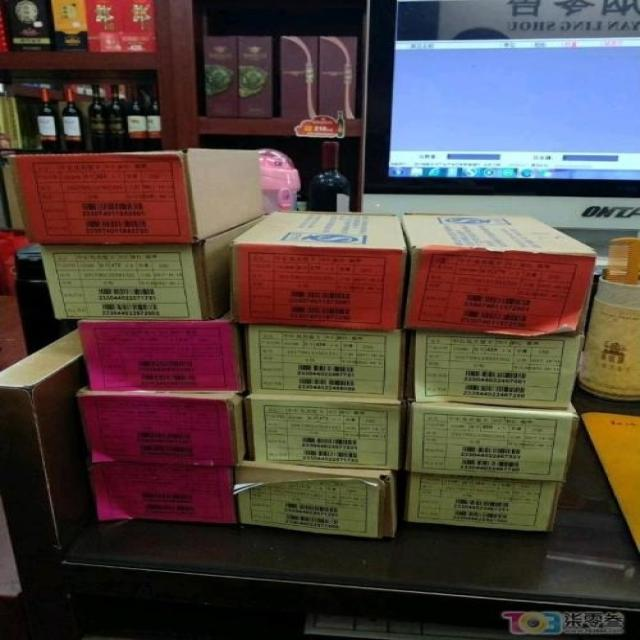box: (38, 214, 268, 321), (399, 214, 600, 335), (9, 149, 266, 243), (229, 208, 408, 330), (403, 400, 580, 482), (404, 329, 584, 409), (234, 452, 403, 537), (73, 384, 246, 467), (78, 309, 246, 392), (237, 323, 406, 400), (246, 392, 407, 469), (403, 471, 564, 532), (88, 465, 237, 524), (317, 36, 357, 119), (280, 37, 319, 118), (237, 36, 273, 118), (0, 0, 56, 51), (204, 36, 239, 116), (84, 0, 127, 53), (50, 0, 90, 51), (122, 0, 160, 53)
